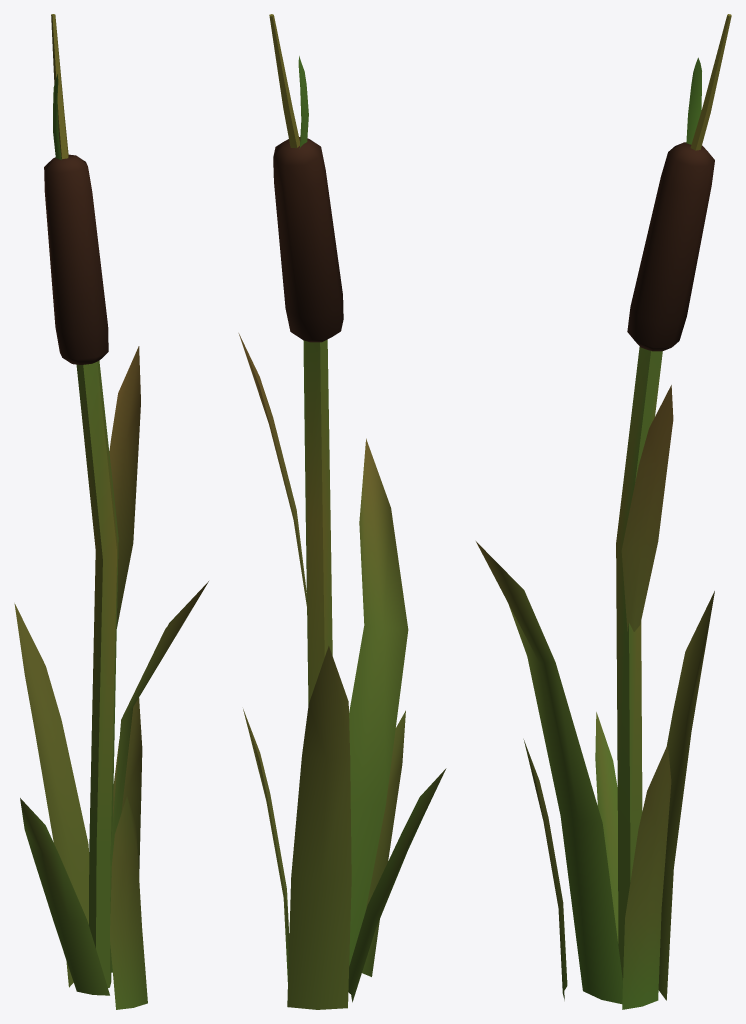
Rendered from CatTails.fbx.
3 views of the same model, side by side, from view 1: azimuth 30°, elevation 25°; view 2: azimuth 150°, elevation 25°; view 3: azimuth 270°, elevation 25° (orthographic). The views are drawn at different scales.
Parts seen in each view (by area): view 1: CatTail; view 2: CatTail; view 3: CatTail.
Part boxes in pixels (x1,y1,x2,y2): CatTail: [14, 14, 208, 1009]; CatTail: [238, 14, 446, 1009]; CatTail: [476, 14, 731, 1009].
Size of the model in its own units: 49.97 by 288 by 68.36.
